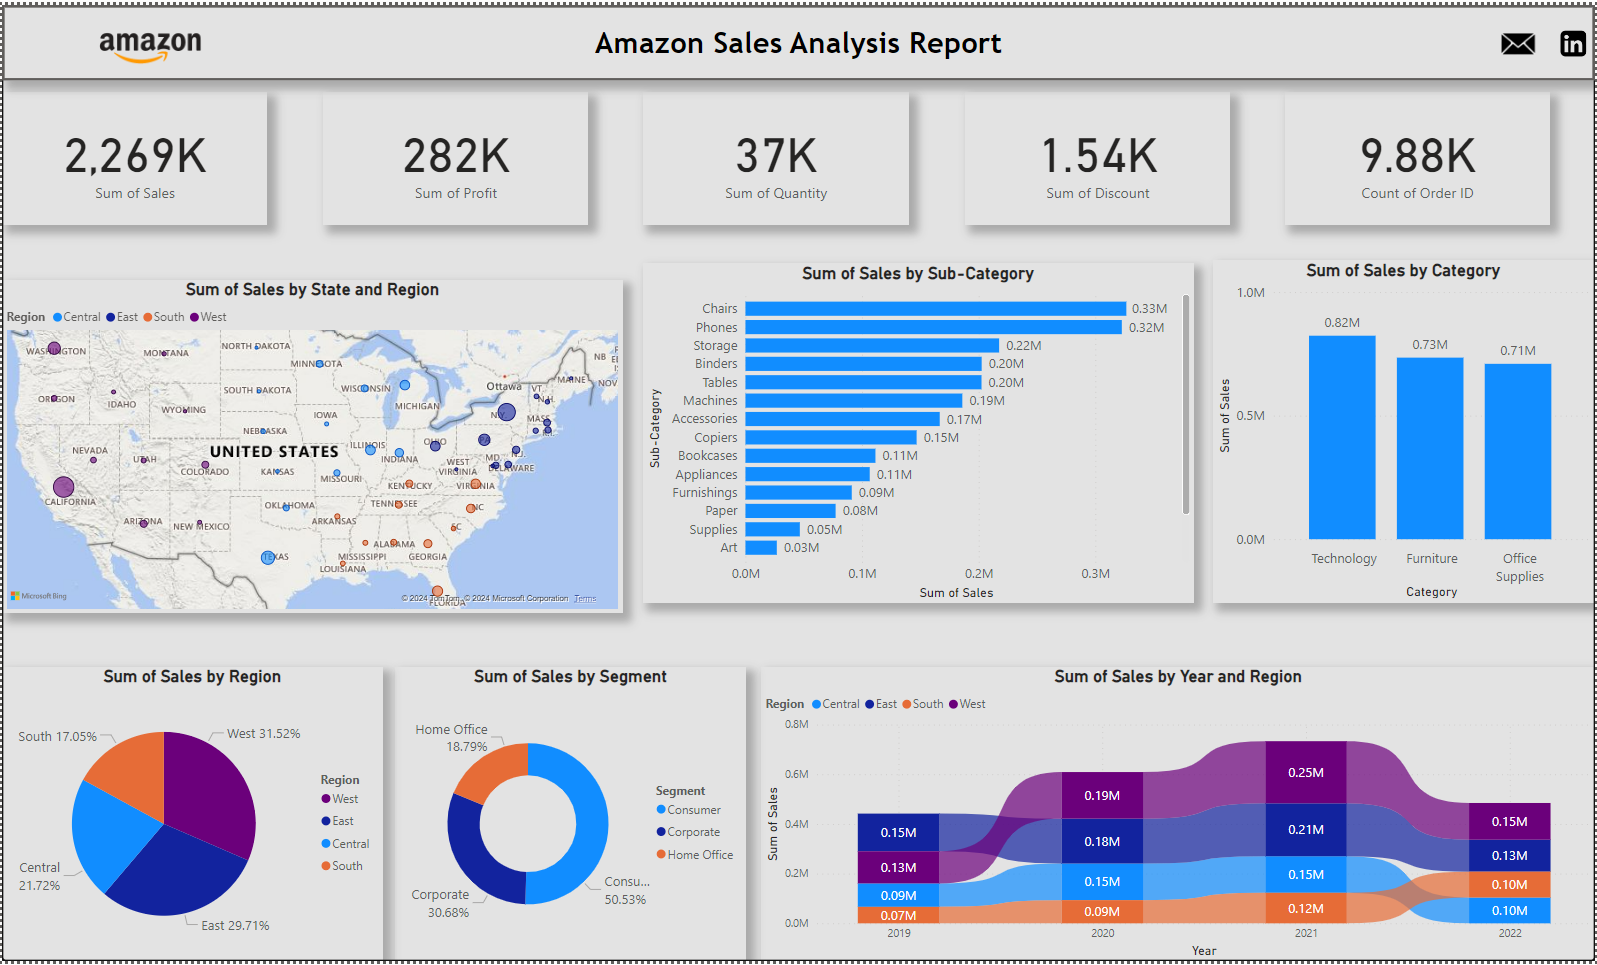

This screenshot's page, from the dashboard's own definition file:
{"tool":"powerbi","page":{"name":"Page 1","canvas":[1800,1080],"ordinal":0},"visuals":[{"type":"donutChart","fields":{"Y":["Sum(Combined_Sales.Sales)"],"Series":["Combined_Sales.Segment"]},"box":[445,747.1,397.1,332.9],"z":0},{"type":"ribbonChart","fields":{"Category":["Combined_Sales.Order Date.Variation.Date Hierarchy.Year","Combined_Sales.Order Date.Variation.Date Hierarchy.Quarter","Combined_Sales.Order Date.Variation.Date Hierarchy.Month","Combined_Sales.Order Date.Variation.Date Hierarchy.Day"],"Y":["Sum(Combined_Sales.Sales)"],"Series":["Combined_Sales.Region"]},"box":[857.1,747.1,942.9,332.9],"z":1000},{"type":"pieChart","fields":{"Y":["Sum(Combined_Sales.Sales)"],"Category":["Combined_Sales.Region"]},"box":[0,747.1,430,332.9],"z":2000},{"type":"clusteredBarChart","fields":{"Category":["Combined_Sales.Sub-Category"],"Y":["Sum(Combined_Sales.Sales)"]},"box":[724.3,291.4,622.9,384.3],"z":3000},{"type":"columnChart","fields":{"Y":["Sum(Combined_Sales.Sales)"],"Category":["Combined_Sales.Category"]},"box":[1368.6,288.6,431.4,387.1],"z":4000},{"type":"actionButton","box":[0,0,1800,85.6],"z":5000},{"type":"map","fields":{"Category":["Combined_Sales.State"],"Size":["Sum(Combined_Sales.Sales)"],"Series":["Combined_Sales.Region"]},"box":[0,310,701.4,377.1],"z":6000},{"type":"card","fields":{"Values":["Sum(Combined_Sales.Sales)"]},"box":[0,98.6,300,150],"z":7000},{"type":"card","fields":{"Values":["Sum(Combined_Sales.Profit)"]},"box":[362.1,98.6,300,150],"z":8000},{"type":"card","fields":{"Values":["Sum(Combined_Sales.Quantity)"]},"box":[724.3,98.6,301.4,150],"z":9000},{"type":"card","fields":{"Values":["Sum(Combined_Sales.Discount)"]},"box":[1087.9,98.6,300,150],"z":10000},{"type":"card","fields":{"Values":["CountNonNull(Combined_Sales.Order ID)"]},"box":[1450,98.6,300,150],"z":11000},{"type":"image","box":[74.4,0,185.6,85.6],"z":12000},{"type":"image","box":[1750,20,50,46.7],"z":13000},{"type":"image","box":[1676.7,0,73.3,85.6],"z":13001}]}

Visuals, with their boxes in screenshot pixels (x1, y1, x2, y2), scaled from the page's 1800x1080 canvas onto the 1597x965 screenshot:
donutChart - Sum(Combined_Sales.Sales) x Combined_Sales.Segment: 395,668,747,964
ribbonChart - Combined_Sales.Order Date.Variation.Date Hierarchy.Year x Combined_Sales.Order Date.Variation.Date Hierarchy.Quarter: 760,668,1596,964
pieChart - Sum(Combined_Sales.Sales) x Combined_Sales.Region: 0,668,382,964
clusteredBarChart - Combined_Sales.Sub-Category x Sum(Combined_Sales.Sales): 643,260,1195,604
columnChart - Sum(Combined_Sales.Sales) x Combined_Sales.Category: 1214,258,1596,604
actionButton: 0,0,1596,76
map - Combined_Sales.State x Sum(Combined_Sales.Sales): 0,277,622,614
card - Sum(Combined_Sales.Sales): 0,88,266,222
card - Sum(Combined_Sales.Profit): 321,88,587,222
card - Sum(Combined_Sales.Quantity): 643,88,910,222
card - Sum(Combined_Sales.Discount): 965,88,1231,222
card - CountNonNull(Combined_Sales.Order ID): 1286,88,1553,222
image: 66,0,231,76
image: 1553,18,1596,60
image: 1488,0,1553,76
